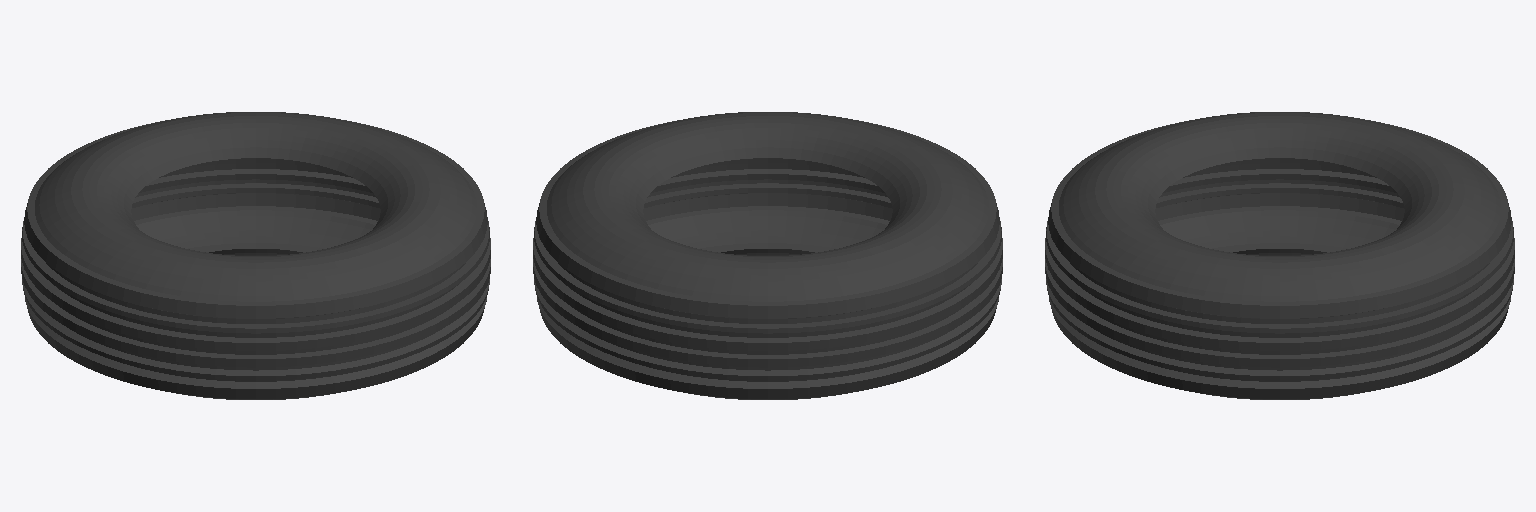
The model's file is Cherokee_Tire.obj.
3 views of the same model, side by side, from view 1: azimuth 30°, elevation 25°; view 2: azimuth 150°, elevation 25°; view 3: azimuth 270°, elevation 25° (orthographic).
Size of the model in its own units: 0.7185 by 0.225 by 0.7185.